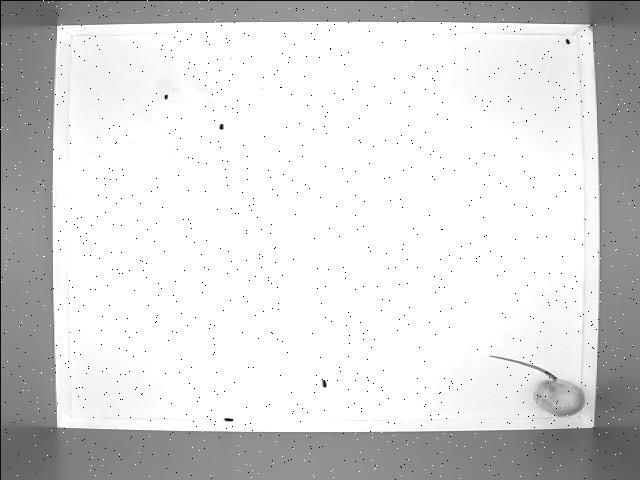Tikus: (490, 354, 584, 416)
